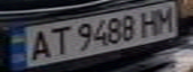4: (90, 17, 112, 48)
8: (118, 11, 142, 42), (106, 15, 127, 45)
9: (72, 20, 96, 52)
A: (21, 27, 54, 62)
H: (136, 7, 163, 37)
M: (151, 4, 181, 34)
T: (42, 24, 72, 56)
